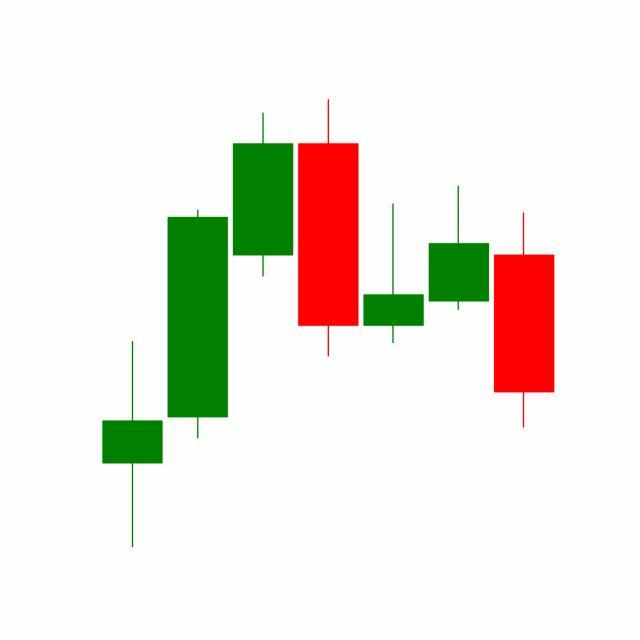Hikkake Pattern: (229, 99, 555, 432)
